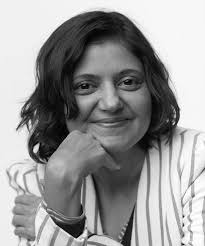indian_female: (51, 25, 168, 166)
